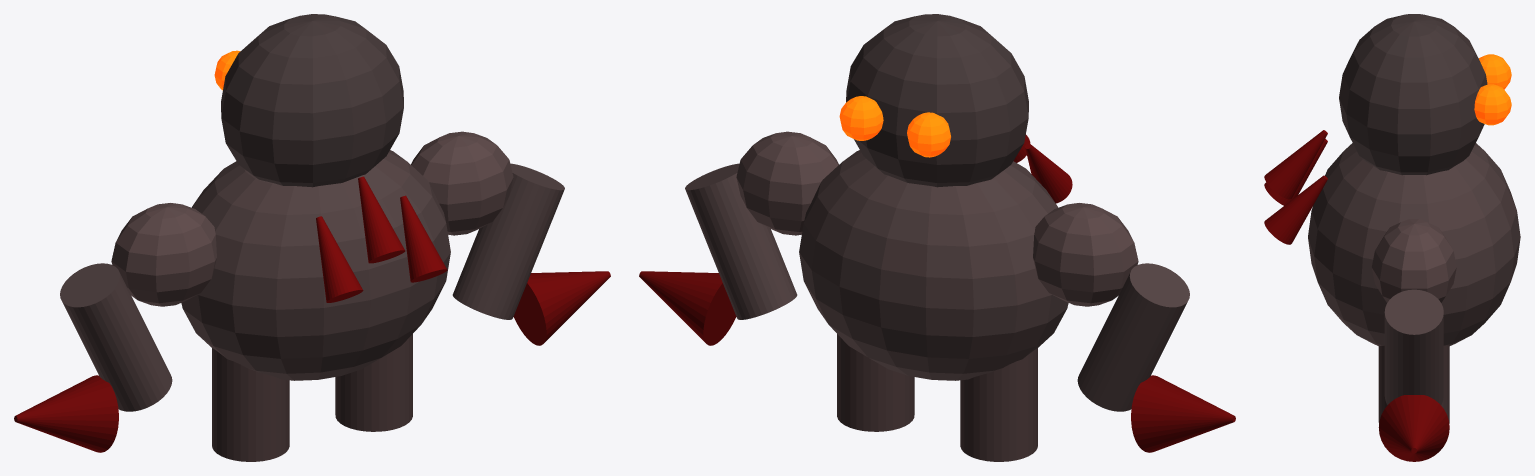
Rendered from enemigo.glb.
3 renders of one model, left to right at view 1: azimuth 30°, elevation 25°; view 2: azimuth 150°, elevation 25°; view 3: azimuth 270°, elevation 25°, orthographic. The views are drawn at different scales.
Parts seen in each view (by area): view 1: Enemigo; view 2: Enemigo; view 3: Enemigo.
Part boxes in pixels (box(x1,y1,x2,y2)): Enemigo: box(14, 14, 610, 461); Enemigo: box(639, 14, 1235, 461); Enemigo: box(1264, 14, 1520, 461).
Bounding box in the file's own units: 2.12 × 1.4 × 0.8673.
